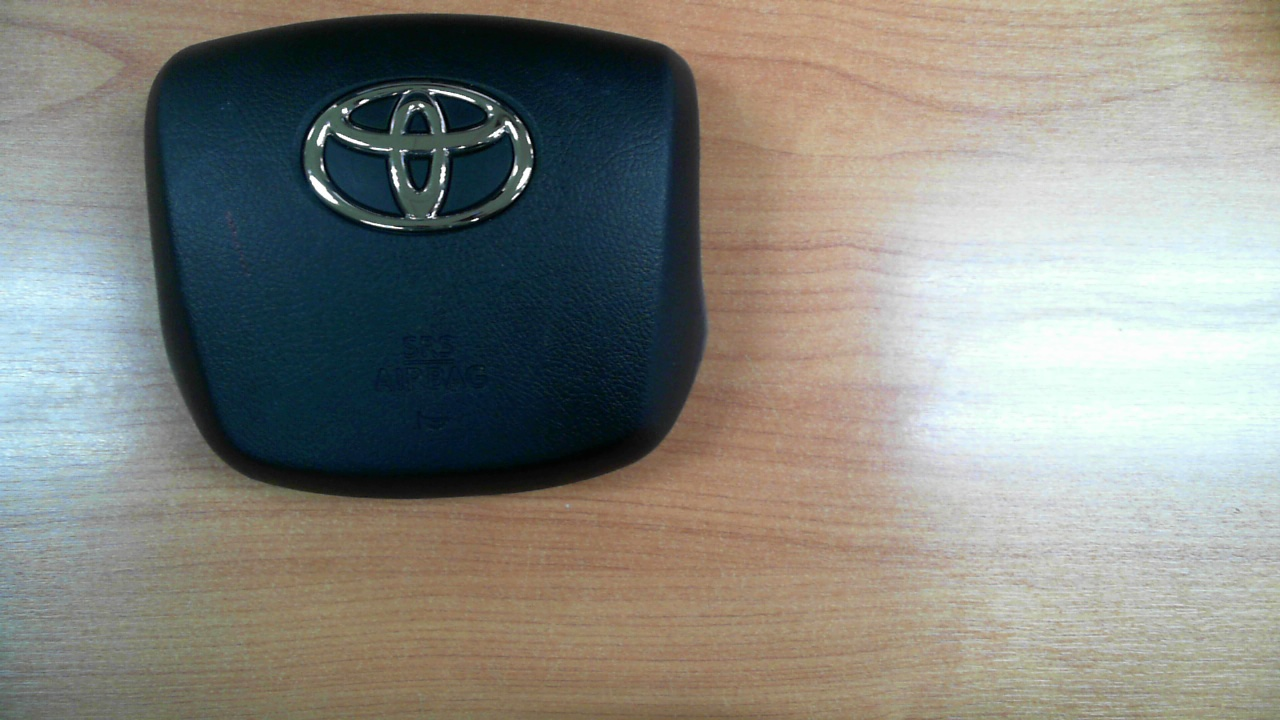Airbag: (139, 11, 710, 497)
Toyota: (303, 80, 535, 232)
